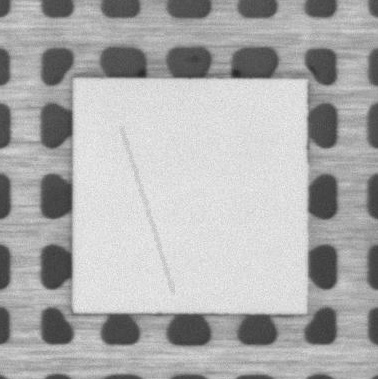DIE_CRACK: (122, 128, 174, 294)
